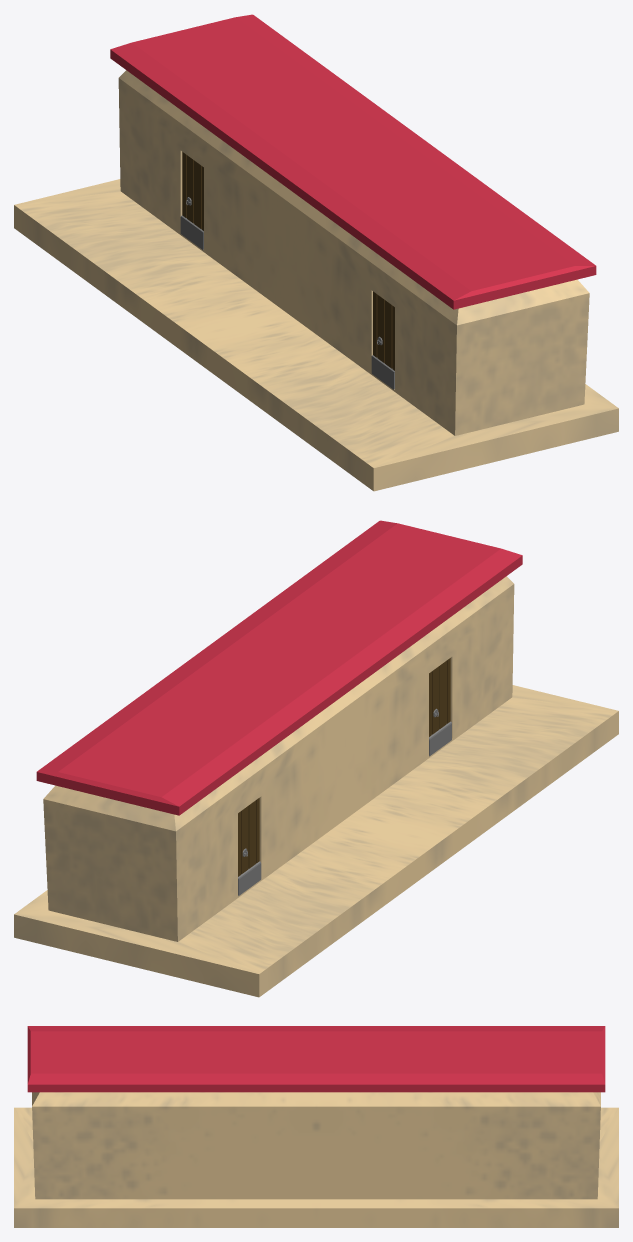
Rendered from terrainMVP1.fbx.
The picture shows the model from 3 angles, top to bottom: view 1: azimuth 30°, elevation 25°; view 2: azimuth 150°, elevation 25°; view 3: azimuth 270°, elevation 25°; orthographic projection. The views are drawn at different scales.
Parts seen in each view (by area): view 1: Plane.002, Porte.001, Porte; view 2: Plane.002, Porte, Porte.001; view 3: Plane.002.
Part boxes in pixels (left/top/right/bottom): Plane.002: left=14, top=14, right=618, bottom=491; Porte.001: left=371, top=291, right=394, bottom=389; Porte: left=180, top=152, right=203, bottom=250; Plane.002: left=14, top=520, right=618, bottom=997; Porte: left=238, top=798, right=261, bottom=895; Porte.001: left=429, top=658, right=451, bottom=756; Plane.002: left=14, top=1026, right=618, bottom=1227.
Size of the model in its own units: 4365 by 1718 by 1115.
